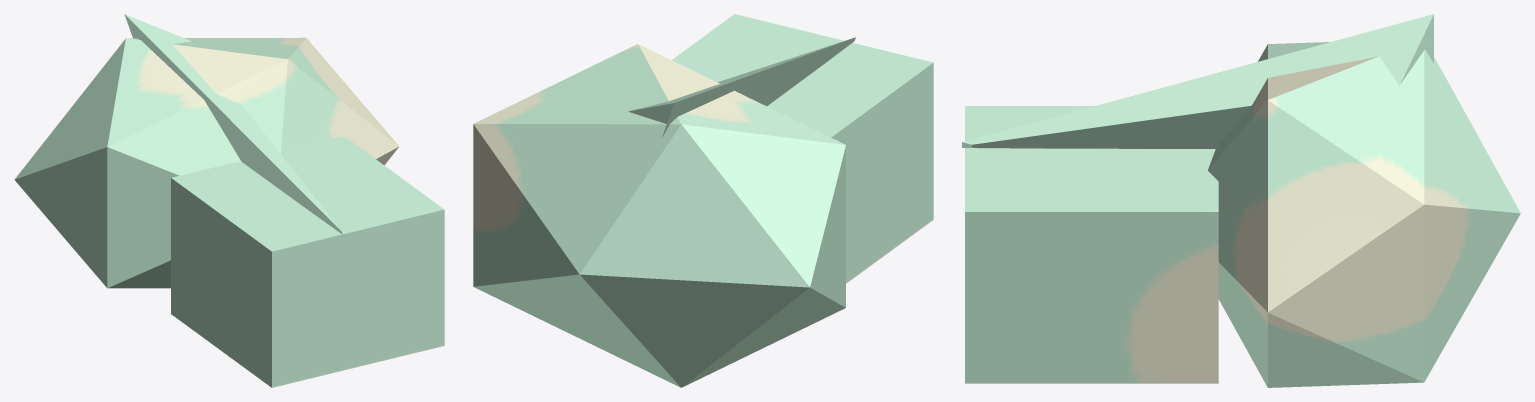
Rendered from estructura.obj.
The picture shows the model from 3 angles, left to right: view 1: azimuth 30°, elevation 25°; view 2: azimuth 150°, elevation 25°; view 3: azimuth 270°, elevation 25°; orthographic projection. The views are drawn at different scales.
Visible parts, largest first — view 1: pCube2, pPlatonic1, pCube1; view 2: pPlatonic1, pCube2, pCube1; view 3: pPlatonic1, pCube2, pCube1.
Part boxes in pixels (bbox=[...]): pCube2: bbox=[171, 135, 444, 387]; pPlatonic1: bbox=[14, 37, 399, 288]; pCube1: bbox=[124, 14, 342, 234]; pPlatonic1: bbox=[473, 44, 845, 387]; pCube2: bbox=[672, 14, 933, 283]; pCube1: bbox=[628, 37, 855, 138]; pPlatonic1: bbox=[1208, 42, 1520, 387]; pCube2: bbox=[965, 106, 1218, 383]; pCube1: bbox=[962, 14, 1433, 148].
Size of the model in its own units: 1.48 by 1.09 by 1.76.
Materials: 1 (1 with a texture image).
